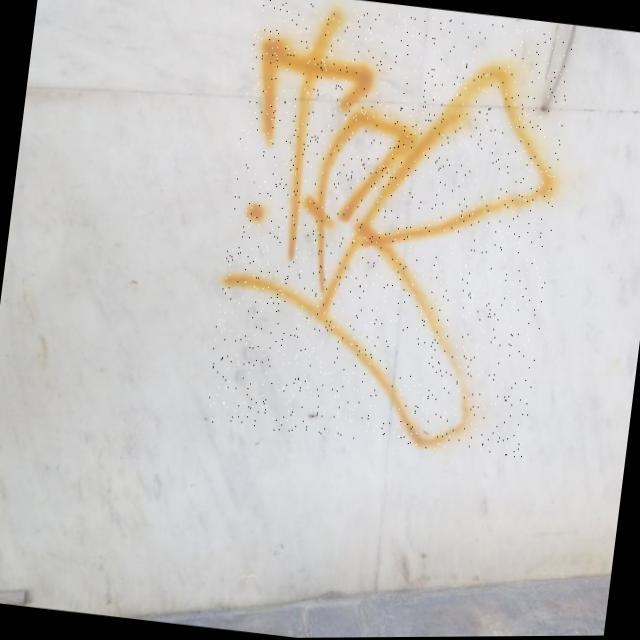-: (203, 0, 575, 462)
